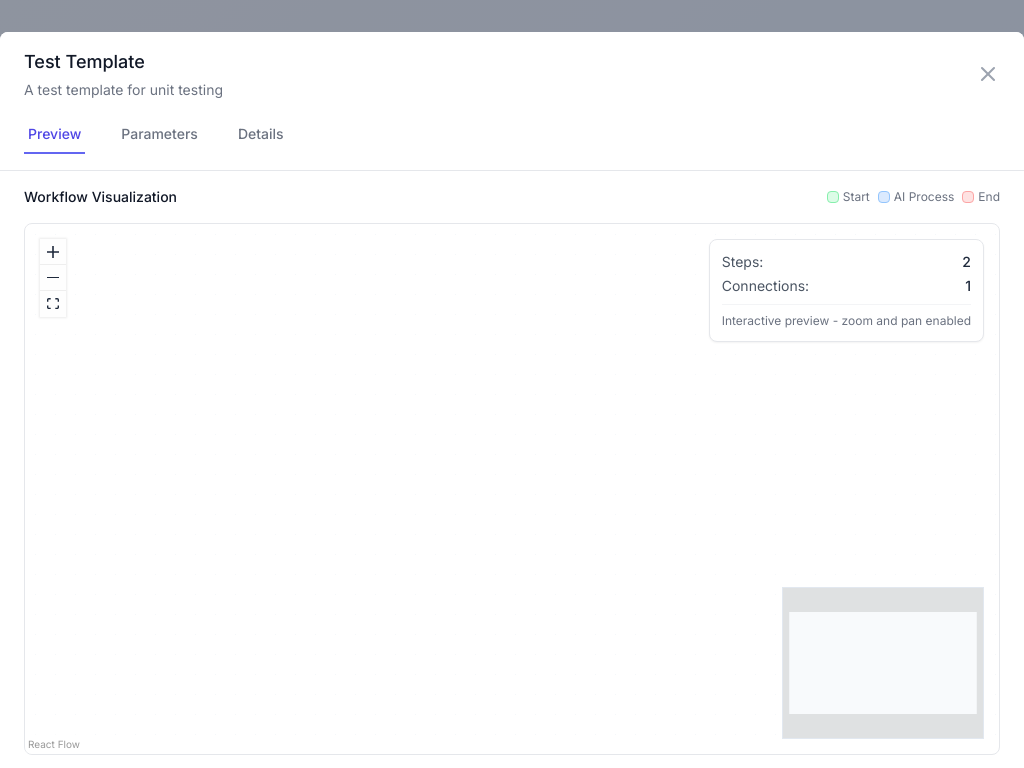
Test: TemplatePreviewModal › displays template details in details tab
Note: Switch to details tab
Click the button "Details". click: {"x": 261, "y": 135}
box: x1=234 y1=116 x2=288 y2=154
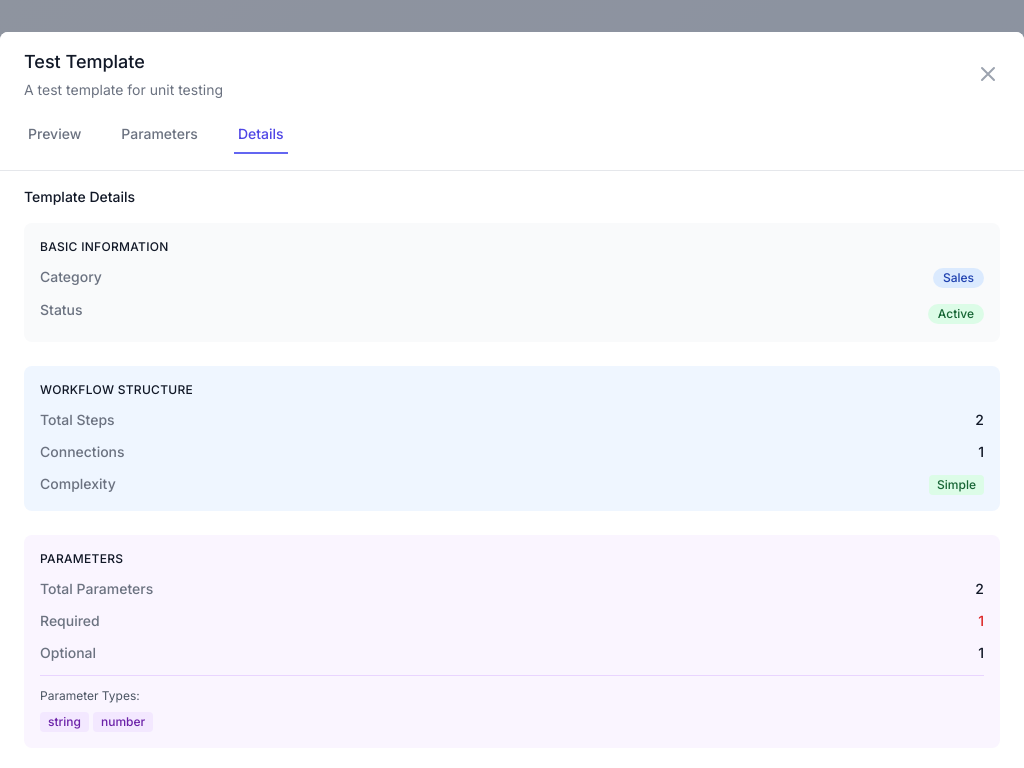
Expected: the number of buttons "Parameters" is 2, x1=117 y1=116 x2=202 y2=154; x1=40 y1=551 x2=123 y2=566
Expected: the heading "Basic Information" is shown, x1=40 y1=239 x2=169 y2=254
Expected: the heading "Workflow Structure" is shown, x1=40 y1=382 x2=193 y2=397
